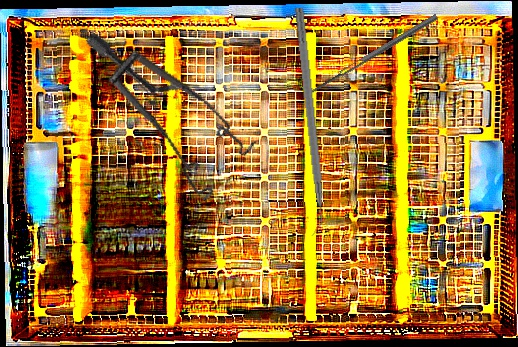Chopper: (282, 7, 328, 237)
Spatula Surgical: (300, 13, 442, 106)
Speculum: (51, 31, 273, 211)
